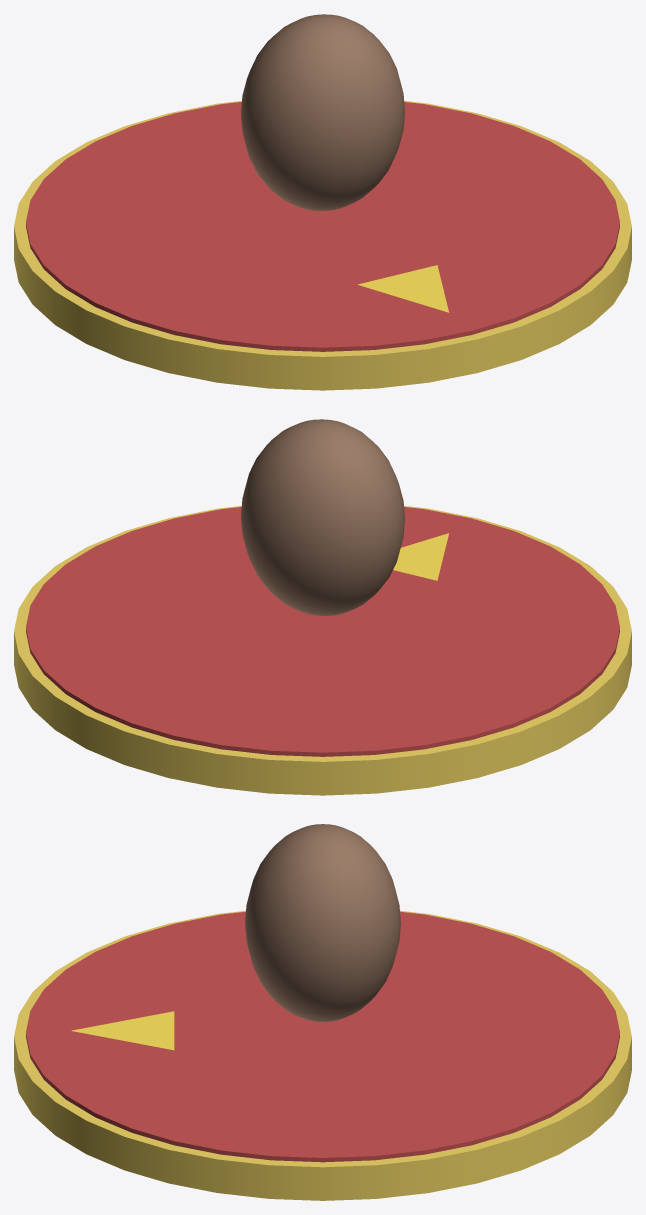
Rendered from dept3.glb.
3 renders of one model, top to bottom at view 1: azimuth 30°, elevation 25°; view 2: azimuth 150°, elevation 25°; view 3: azimuth 270°, elevation 25°, orthographic.
Visible parts, largest first — view 1: PedestalBase, PedestalRim, EagleBody, PedestalAccent; view 2: PedestalBase, PedestalRim, EagleBody, PedestalAccent; view 3: PedestalBase, PedestalRim, EagleBody, PedestalAccent.
Boxes of the visible parts, left/top/right/bottom form: PedestalBase: left=26, top=102, right=619, bottom=351; PedestalRim: left=14, top=101, right=631, bottom=390; EagleBody: left=241, top=14, right=404, bottom=210; PedestalAccent: left=357, top=265, right=449, bottom=312; PedestalBase: left=26, top=507, right=619, bottom=756; PedestalRim: left=14, top=506, right=631, bottom=795; EagleBody: left=241, top=419, right=404, bottom=615; PedestalAccent: left=393, top=533, right=448, bottom=580; PedestalBase: left=26, top=911, right=619, bottom=1162; PedestalRim: left=14, top=910, right=631, bottom=1200; EagleBody: left=245, top=824, right=400, bottom=1021; PedestalAccent: left=71, top=1011, right=174, bottom=1050.
Size of the model in its own units: 3.33 by 1.45 by 3.33.
